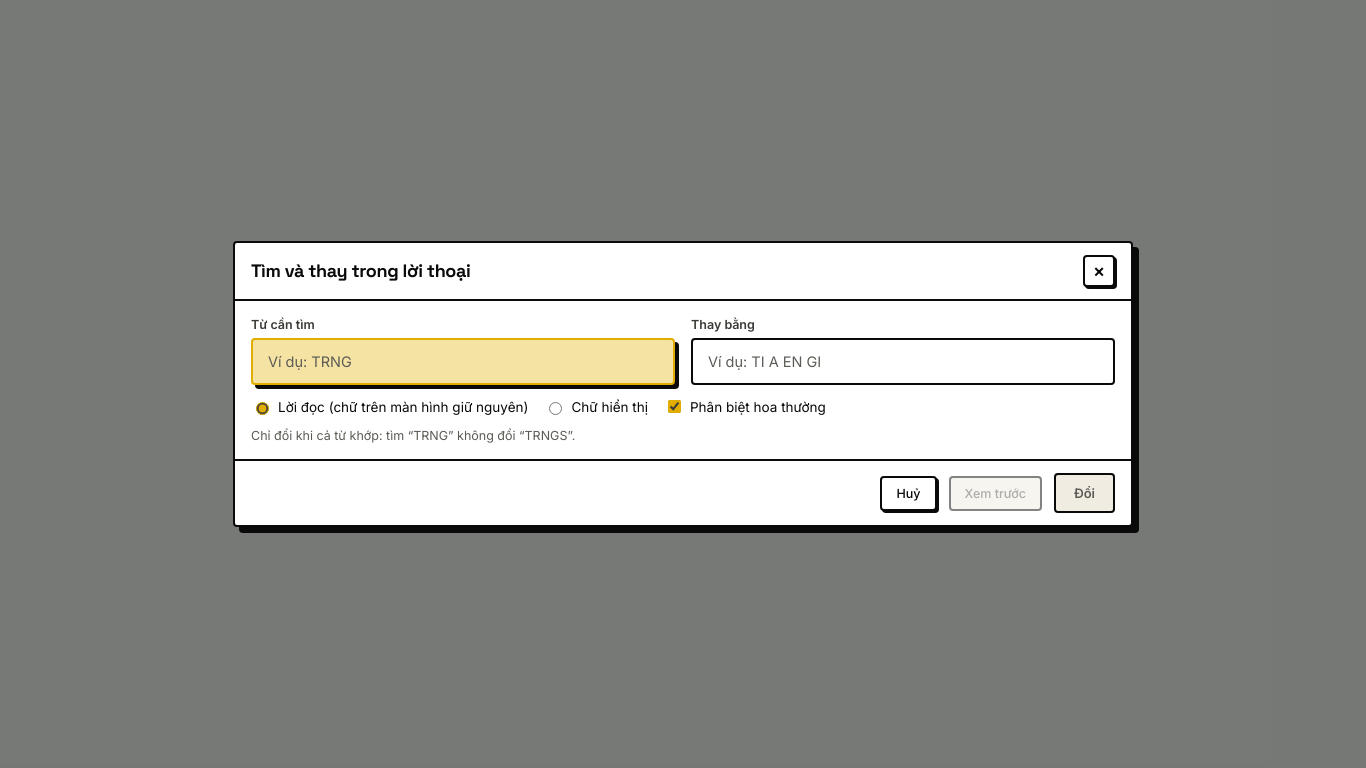
Scenario: ScriptReplaceDialog › says when nothing matches, and shows the server's reason for a refusal
In the field with test id "script-replace-find": (463, 362) [251,338,675,385], type "ZZZ"
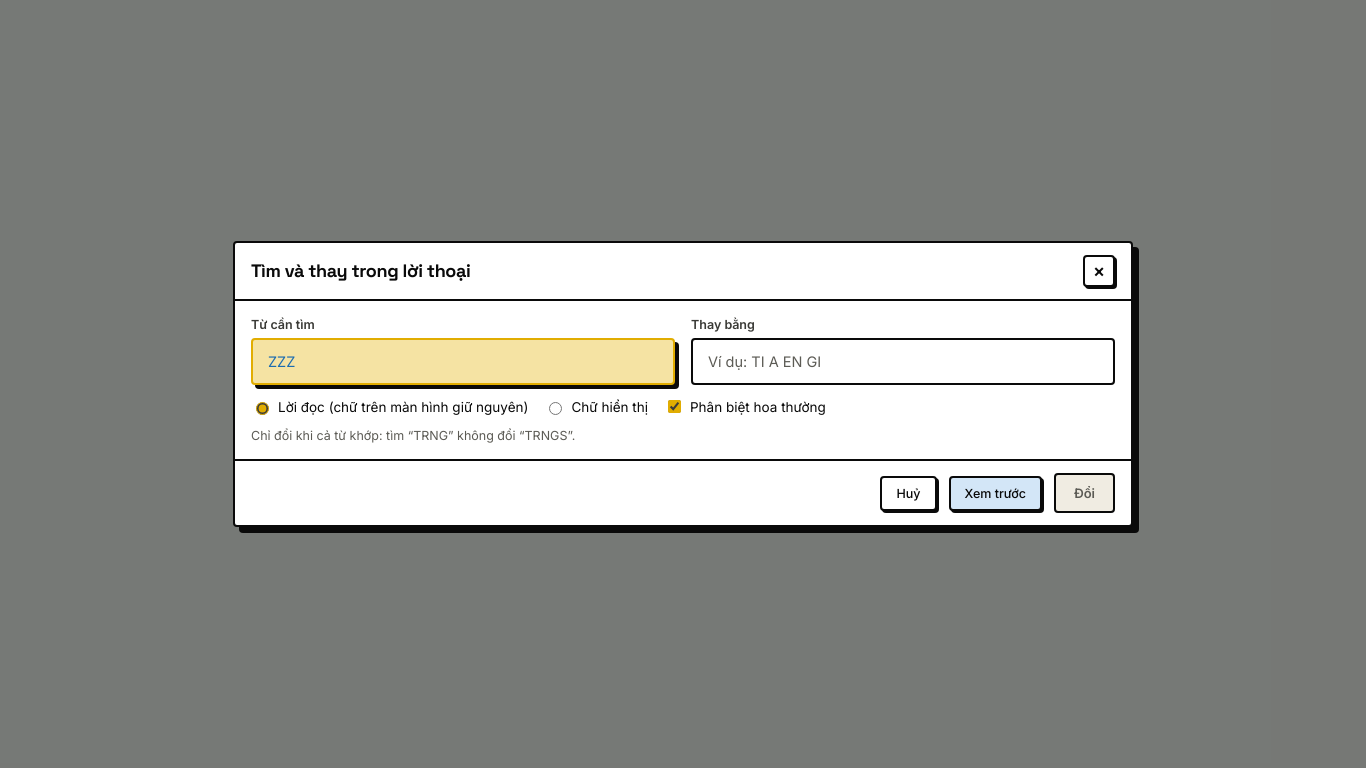
In the field with test id "script-replace-with": (903, 362) [691,338,1115,385], type "X"
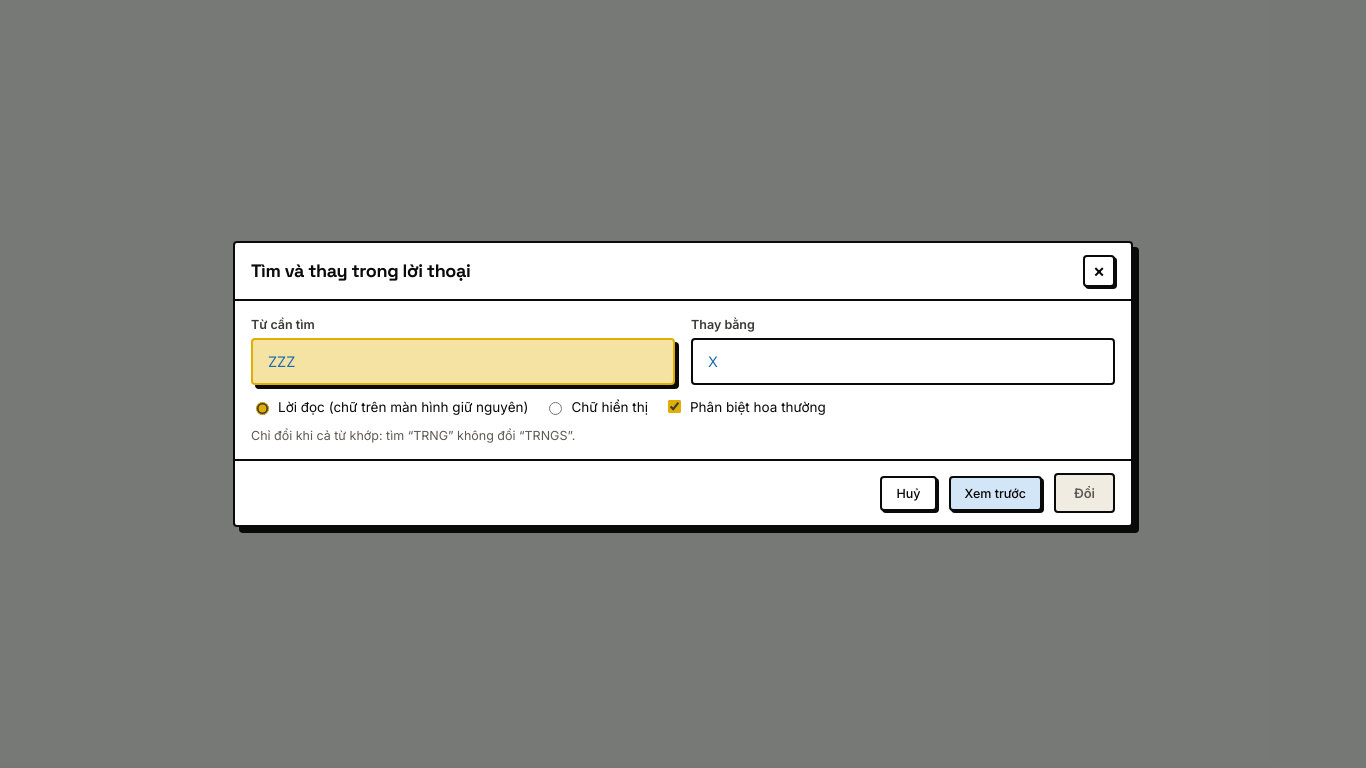
Click the button with test id "script-replace-preview": (995, 493) [948,476,1042,510]
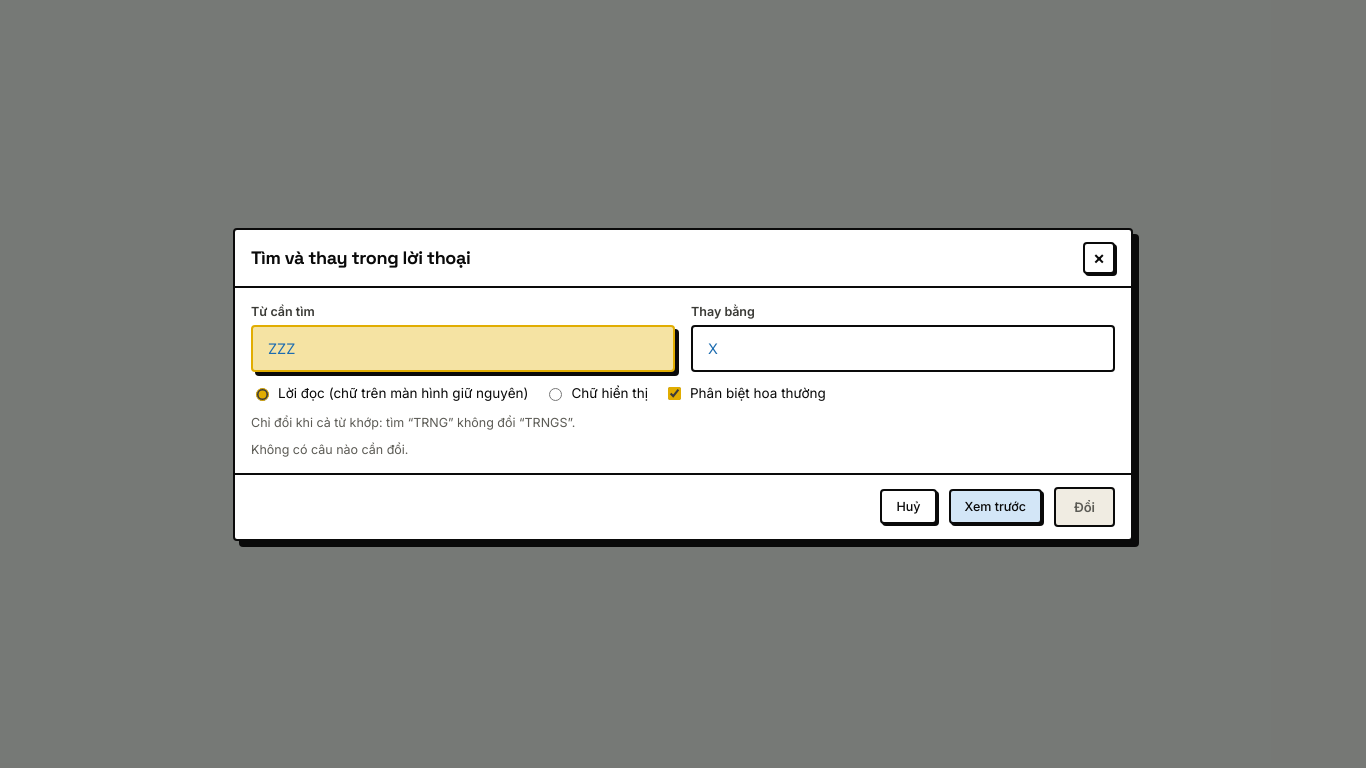
Result: the message "Không có câu nào cần đổi." is shown at [251,442,408,456]
Click the button with test id "script-replace-preview": (995, 506) [948,489,1042,524]
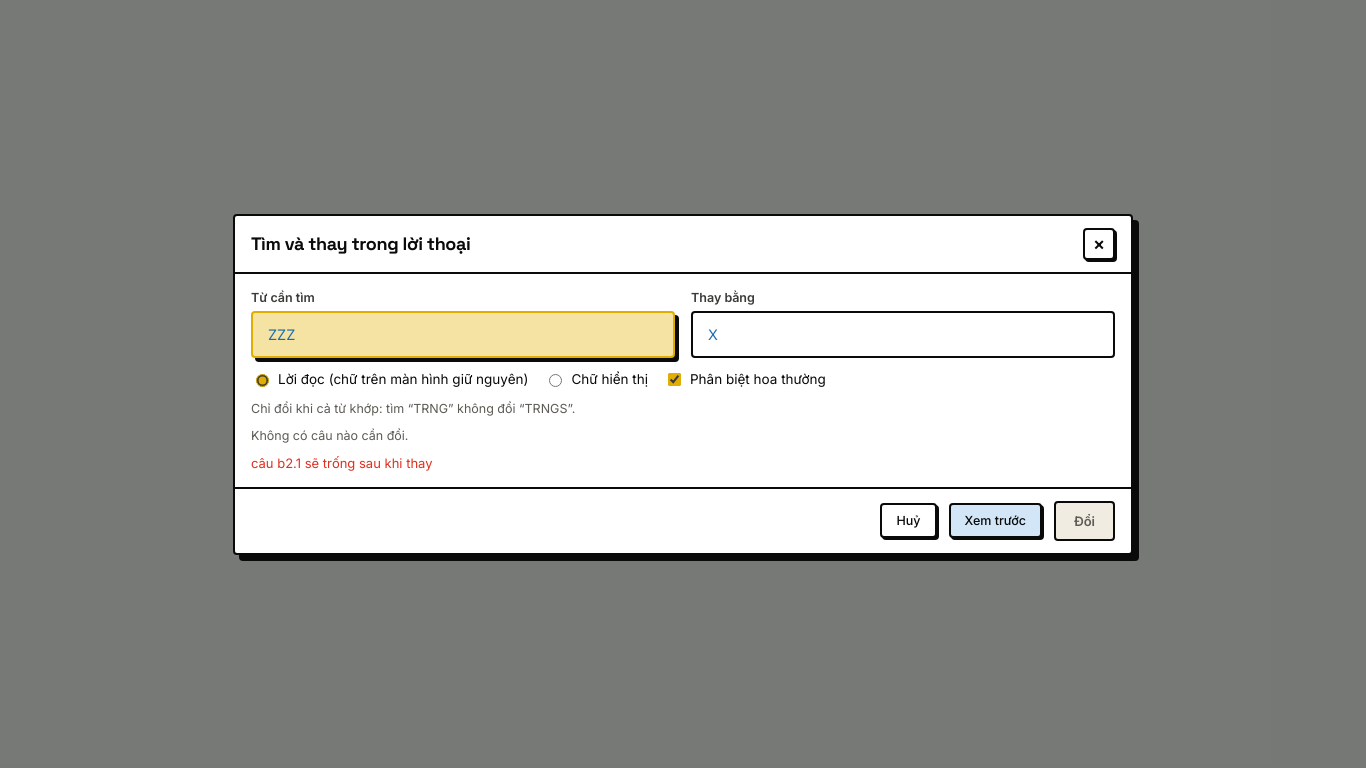
Result: the message with test id "script-replace-error" shows "sẽ trống" at [251,454,432,470]
